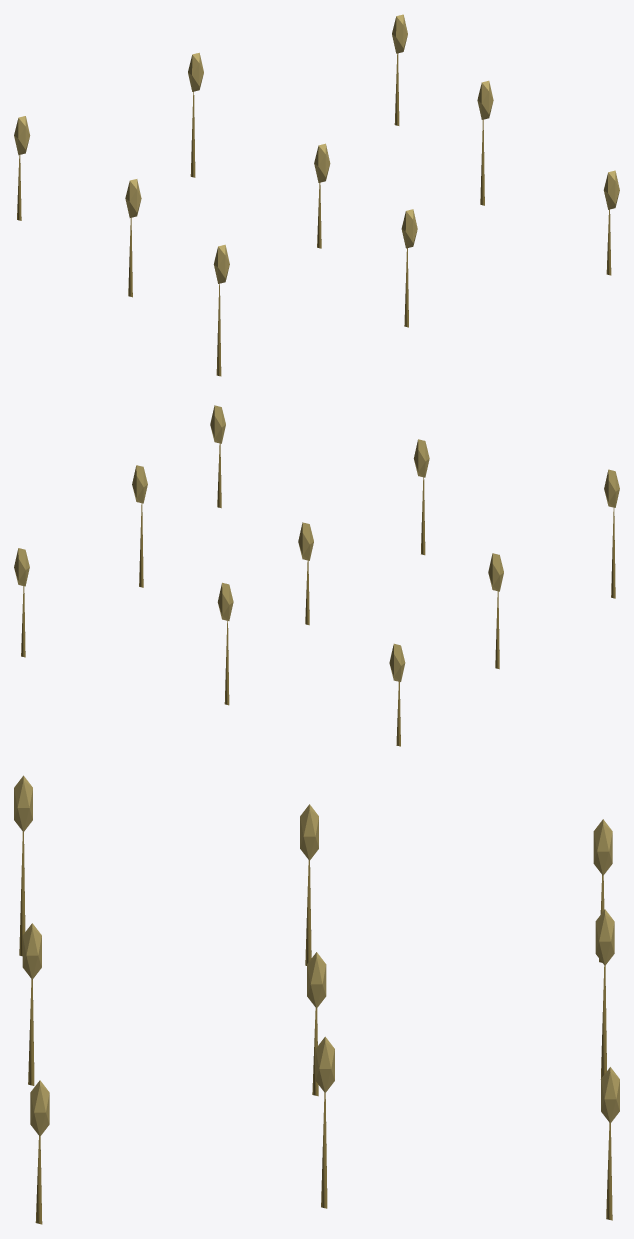
The picture shows the model from 3 angles, top to bottom: view 1: azimuth 30°, elevation 25°; view 2: azimuth 150°, elevation 25°; view 3: azimuth 270°, elevation 25°; orthographic projection. The views are drawn at different scales.
Visible parts, largest first — view 1: alpine-body; view 2: alpine-body; view 3: alpine-body.
Boxes of the visible parts, left/top/right/bottom form: alpine-body: left=14, top=14, right=619, bottom=376; alpine-body: left=14, top=405, right=619, bottom=746; alpine-body: left=14, top=775, right=619, bottom=1224.
Bounding box in the file's own units: 3.82 × 1.16 × 3.55.
